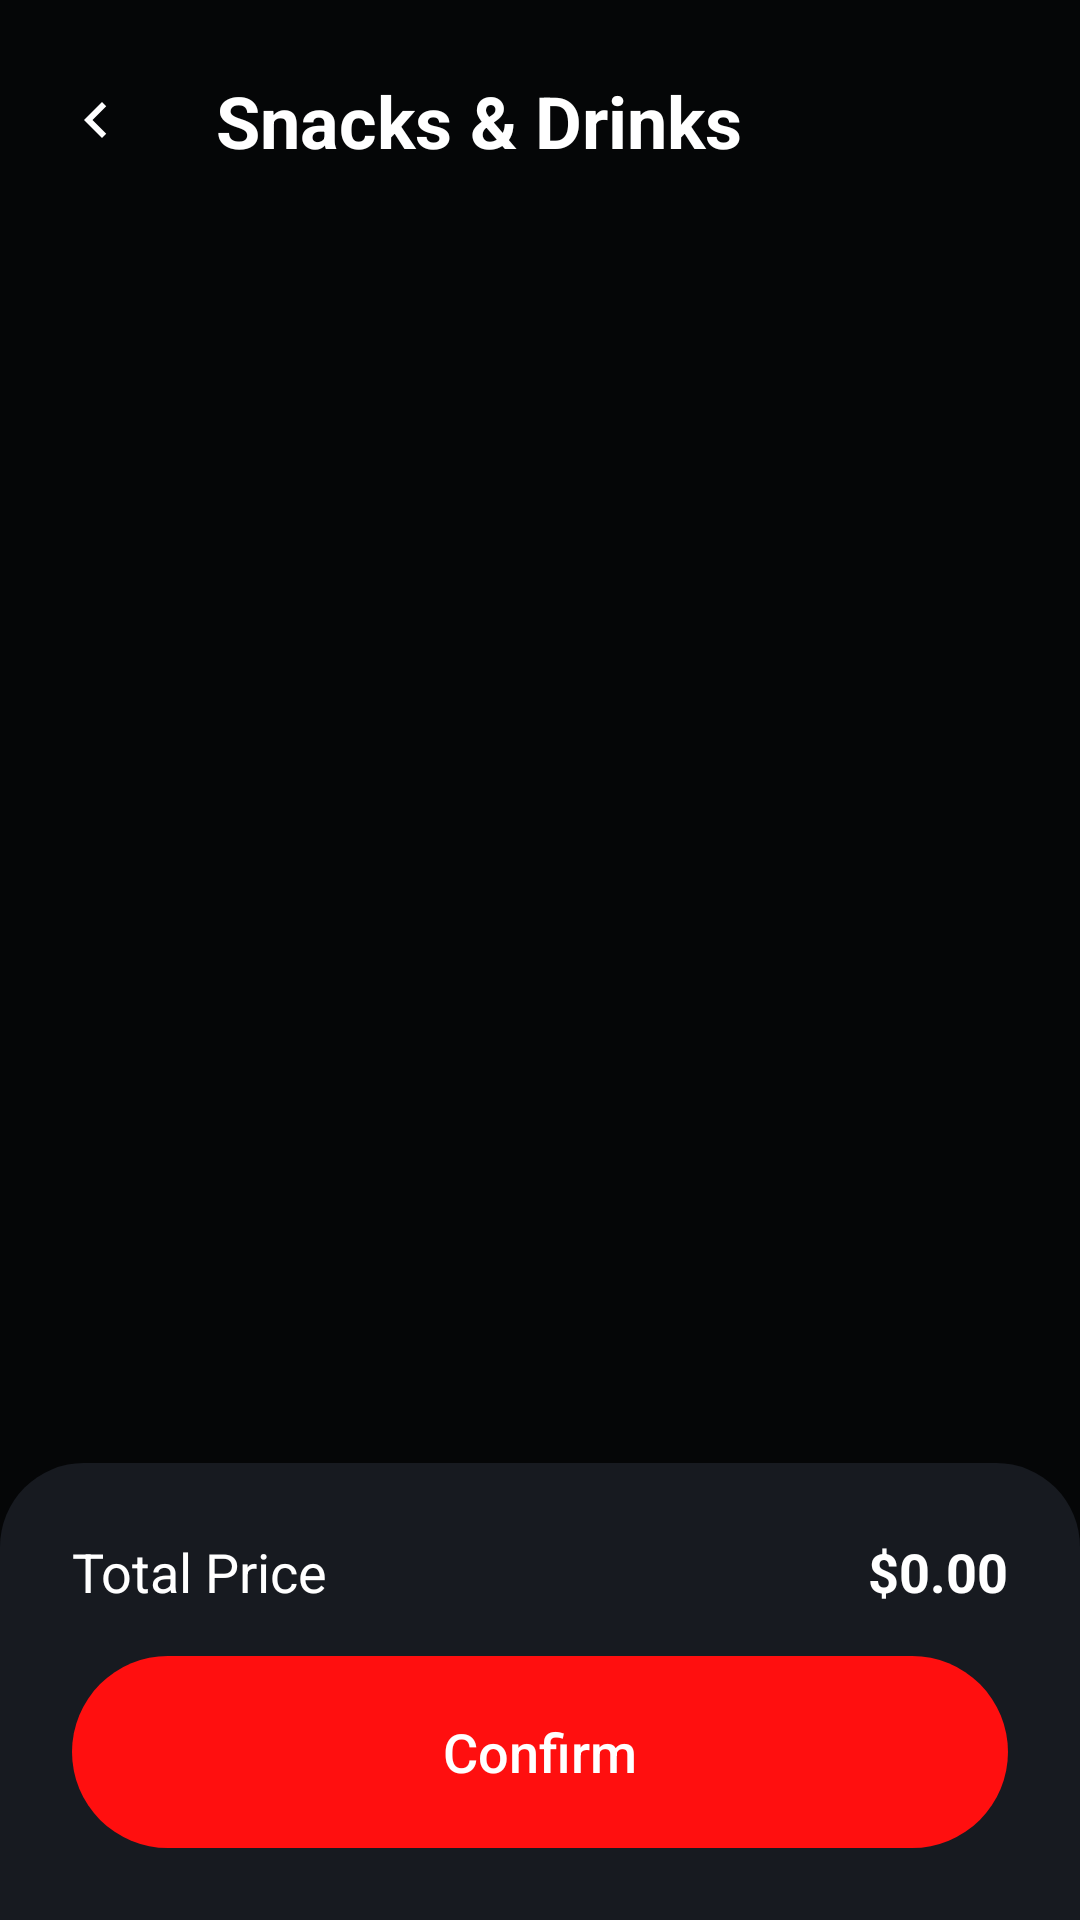

Point at icon controls on the screen. Image size 1080×1920, points as [x,y].
arrow back circle: [95,120]
